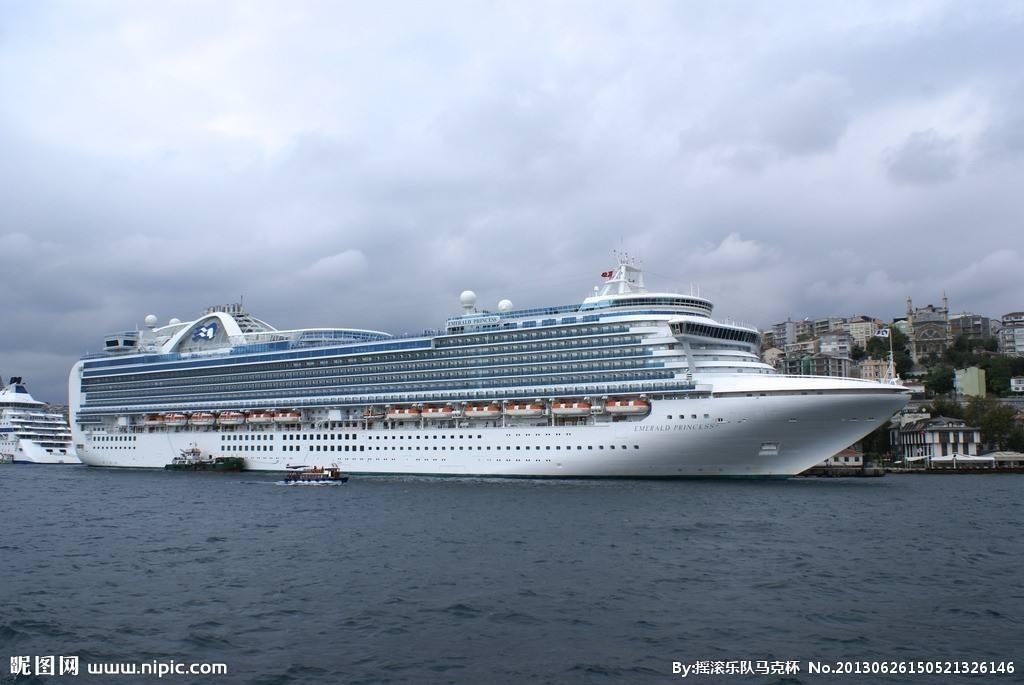youlun: (61, 263, 921, 477)
